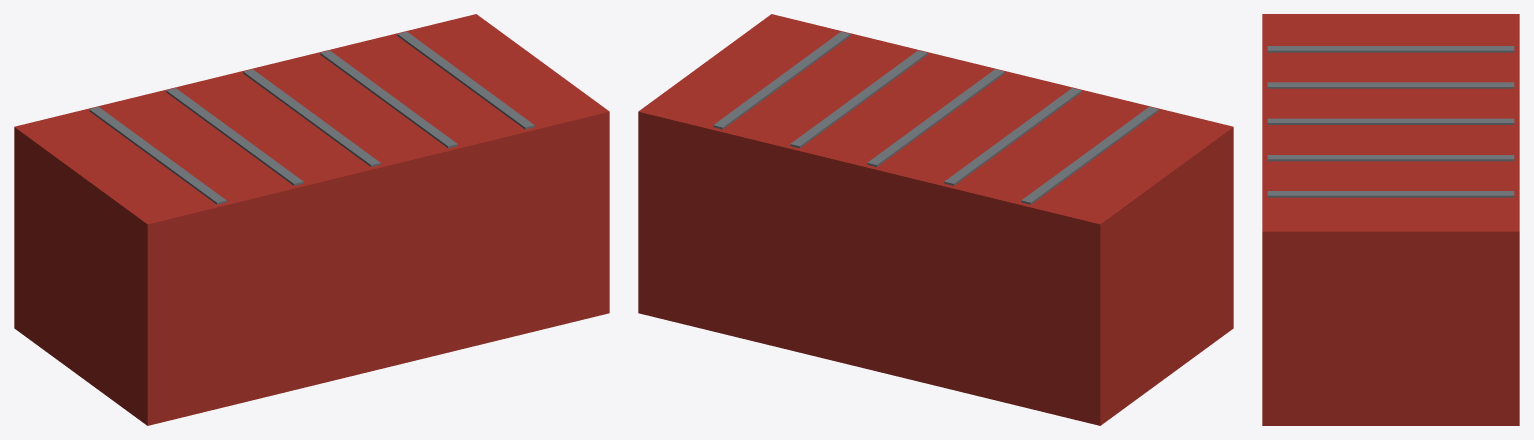
The model's file is container.glb.
3 renders of one model, left to right at view 1: azimuth 30°, elevation 25°; view 2: azimuth 150°, elevation 25°; view 3: azimuth 270°, elevation 25°, orthographic. The views are drawn at different scales.
Parts seen in each view (by area): view 1: g0_container, g5_rib, g2_rib, g3_rib, g4_rib, g1_rib; view 2: g0_container, g5_rib, g2_rib, g3_rib, g4_rib, g1_rib; view 3: g0_container, g1_rib, g2_rib, g5_rib, g3_rib, g4_rib.
Part boxes in pixels (x1,y1,x2,y2): g0_container: (14,14,609,425); g5_rib: (397,31,534,129); g2_rib: (166,88,303,185); g3_rib: (243,69,380,166); g4_rib: (320,50,457,148); g1_rib: (89,107,226,204); g0_container: (638,14,1233,425); g5_rib: (713,31,850,129); g2_rib: (944,88,1081,185); g3_rib: (867,69,1004,166); g4_rib: (790,50,927,148); g1_rib: (1021,107,1158,204); g0_container: (1262,14,1519,425); g1_rib: (1267,46,1514,52); g2_rib: (1267,82,1514,88); g5_rib: (1267,191,1514,197); g3_rib: (1267,118,1514,124); g4_rib: (1267,155,1514,161).
Bounding box in the file's own units: 2.4 × 1.02 × 1.2.
